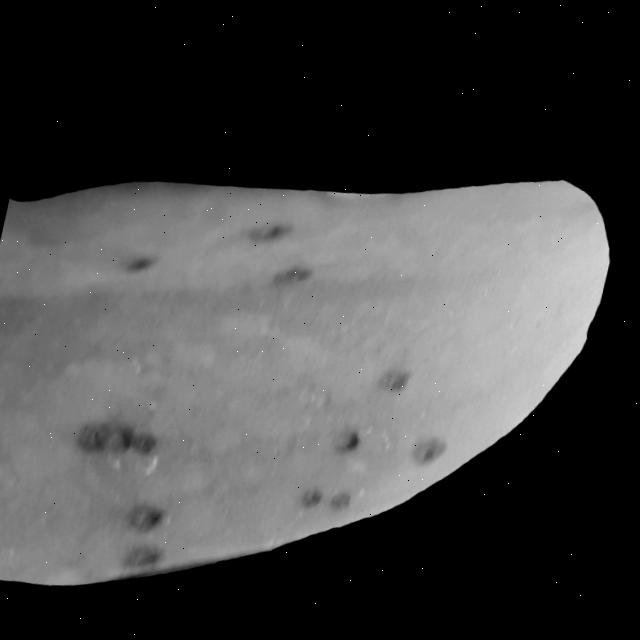mite: (45, 179, 494, 632), (300, 347, 467, 535), (54, 410, 199, 580), (233, 208, 329, 295), (301, 415, 375, 519), (117, 496, 183, 578), (302, 478, 360, 517), (124, 538, 173, 576), (127, 498, 172, 536), (128, 427, 164, 458), (335, 424, 367, 454), (332, 485, 358, 512), (303, 483, 330, 509), (347, 428, 366, 450)
sunburn: (0, 64, 629, 640)
